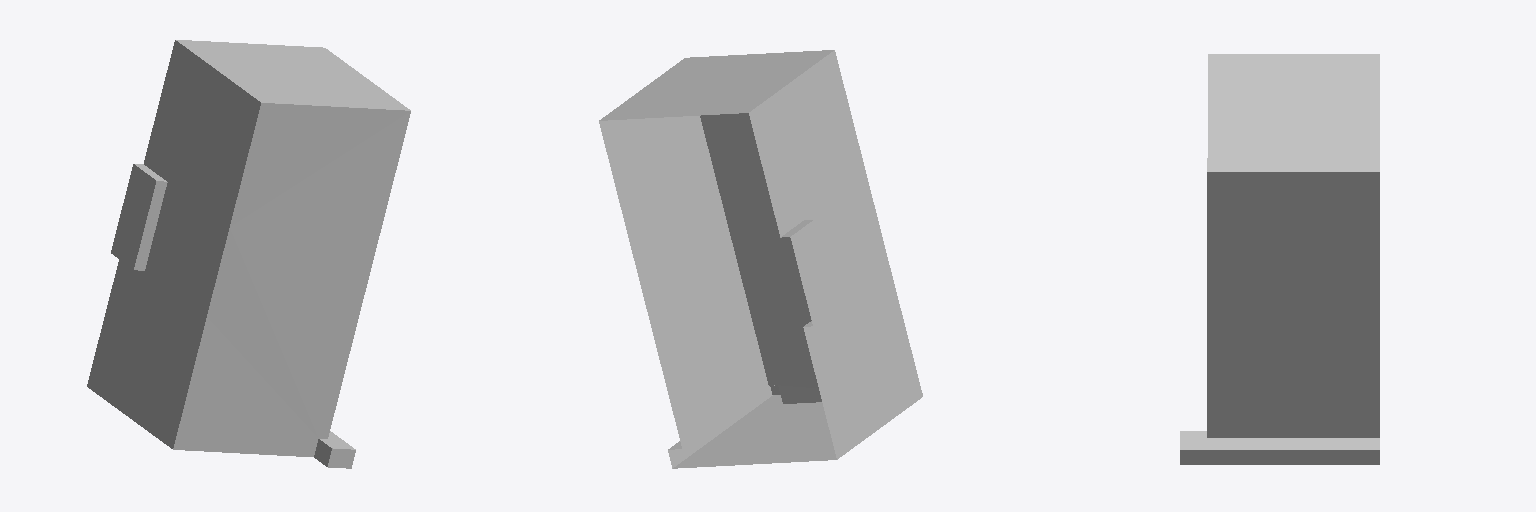
File: talo_Build0000016.obj
3 views of the same model, side by side, from view 1: azimuth 30°, elevation 25°; view 2: azimuth 150°, elevation 25°; view 3: azimuth 270°, elevation 25° (orthographic).
Size of the model in its own units: 26.24 by 39.4 by 19.12.